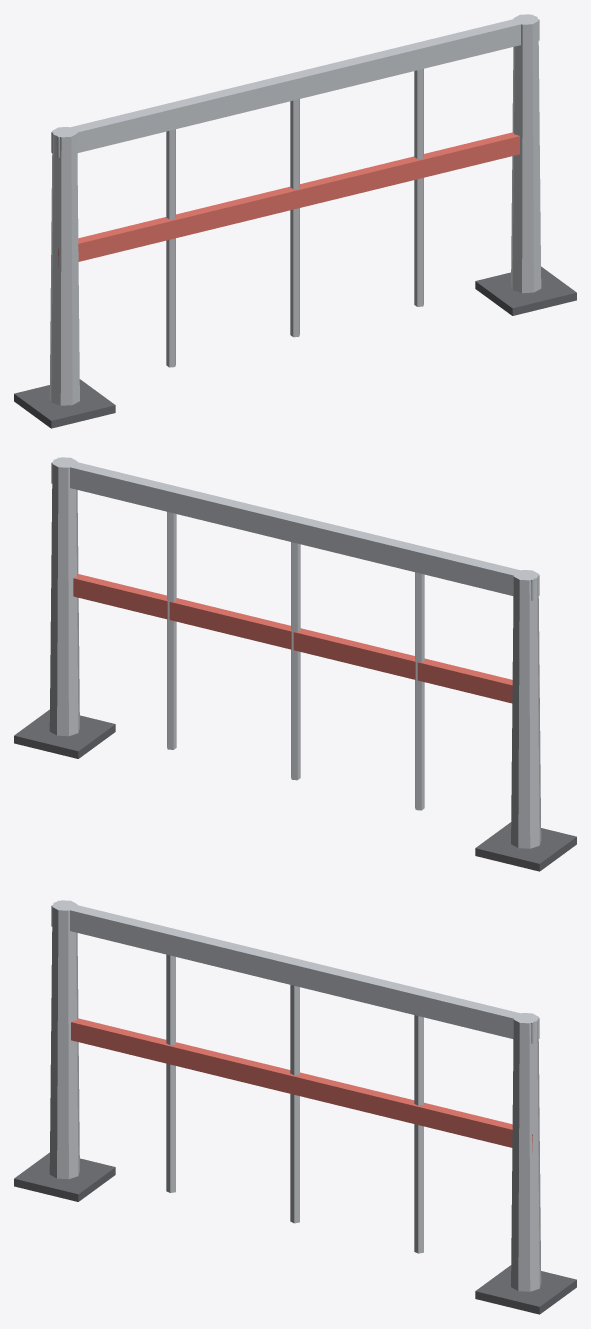
The model's file is street-food-market-and-food-trucks-queue-rail-section-16d3cde8__34313.glb.
3 views of the same model, one above another, from view 1: azimuth 30°, elevation 25°; view 2: azimuth 150°, elevation 25°; view 3: azimuth 330°, elevation 25° (orthographic).
Parts seen in each view (by area): view 1: queue-rail-section-steel, queue-rail-section-scarlet, queue-rail-section-charcoal; view 2: queue-rail-section-steel, queue-rail-section-scarlet, queue-rail-section-charcoal; view 3: queue-rail-section-steel, queue-rail-section-scarlet, queue-rail-section-charcoal.
Part boxes in pixels (left/top/right/bottom): queue-rail-section-steel: left=49, top=14, right=541, bottom=405; queue-rail-section-scarlet: left=58, top=132, right=519, bottom=266; queue-rail-section-charcoal: left=14, top=266, right=576, bottom=428; queue-rail-section-steel: left=49, top=457, right=541, bottom=848; queue-rail-section-scarlet: left=73, top=574, right=539, bottom=704; queue-rail-section-charcoal: left=14, top=709, right=576, bottom=871; queue-rail-section-steel: left=49, top=900, right=541, bottom=1291; queue-rail-section-scarlet: left=71, top=1018, right=532, bottom=1152; queue-rail-section-charcoal: left=14, top=1152, right=576, bottom=1314.
Size of the model in its own units: 2.12 by 1.06 by 0.2601.
